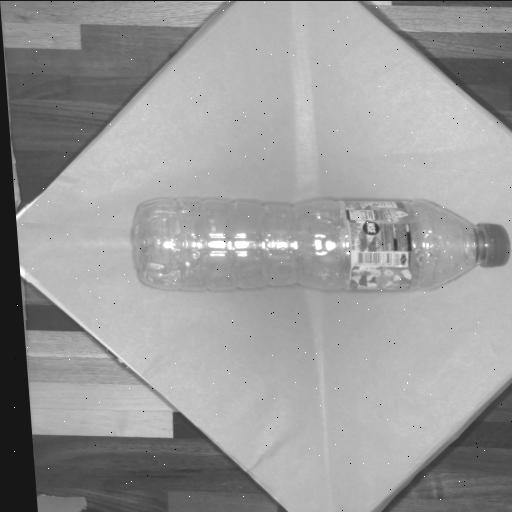bottle: (135, 199, 507, 288)
